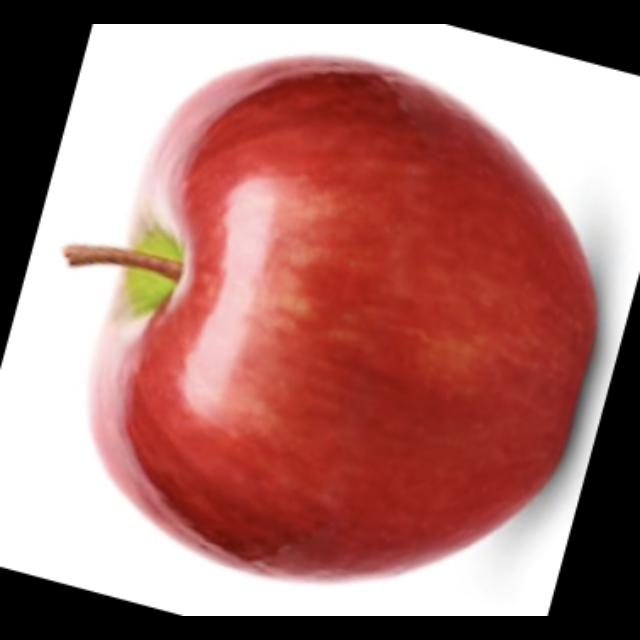Apel Segar: (81, 50, 595, 566)
